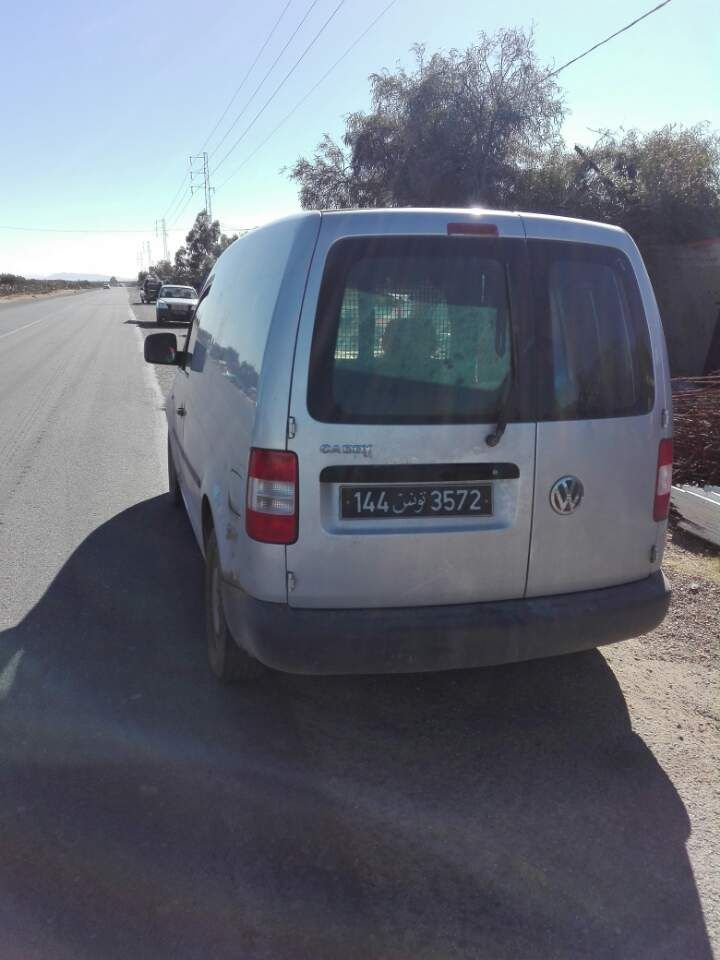LP: (332, 478, 505, 526)
